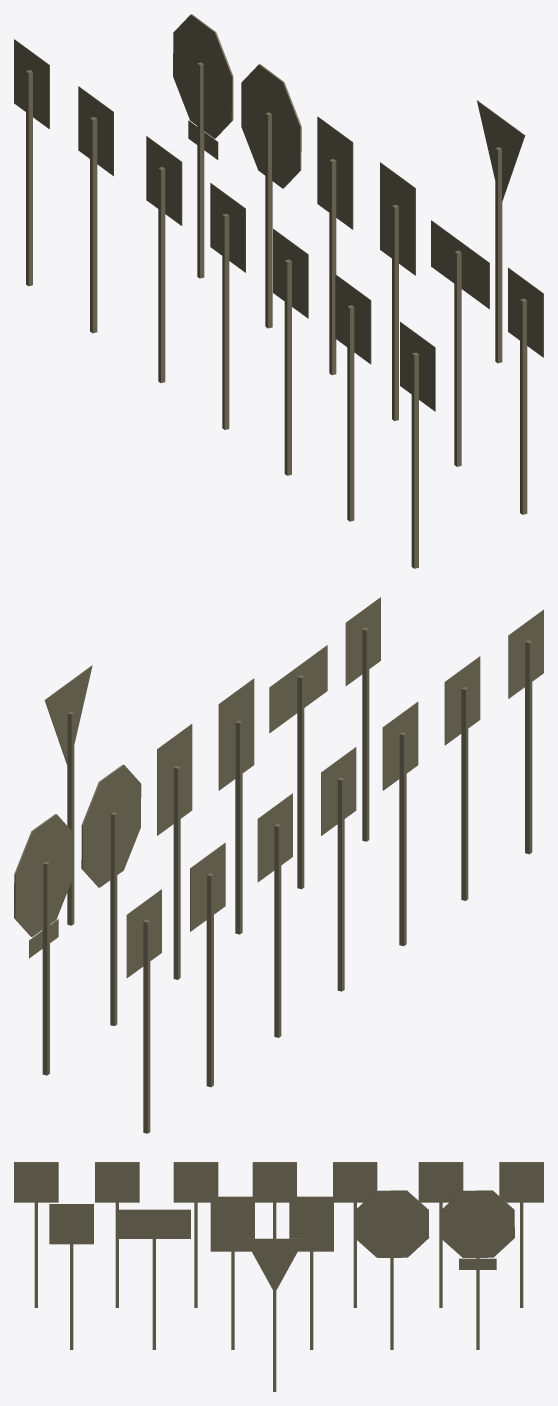
File: warnings.glb
3 views of the same model, one above another, from view 1: azimuth 30°, elevation 25°; view 2: azimuth 150°, elevation 25°; view 3: azimuth 270°, elevation 25° (orthographic). The views are drawn at different scales.
Visible parts, largest first — view 1: pCylinder1, pCylinder4, pCube76, pCube75, pCube74, pCube66, pCube71, pCube68, pCube72, pCube69, pCube67, pCube70 (+16 smaller); view 2: pCylinder4, pCylinder1, pCube75, pCube76, pCube74, pCube67, pCube66, pCube65, pCube71, pCube70, pCube68, pCube69 (+16 smaller); view 3: pCylinder1, pCylinder4, pCube75, pCube76, pCube74, pCube65, pCube66, pCube69, pCube67, pCube70, pCube68, pCube72 (+16 smaller).
Part boxes in pixels (<box>): pCylinder1: <box>173,14,233,138</box>; pCylinder4: <box>241,64,301,188</box>; pCube76: <box>317,116,353,229</box>; pCube75: <box>380,162,415,275</box>; pCube74: <box>431,220,489,309</box>; pCube66: <box>335,274,371,364</box>; pCube71: <box>146,136,182,225</box>; pCube68: <box>210,182,245,272</box>; pCube72: <box>78,86,113,176</box>; pCube69: <box>508,267,543,357</box>; pCube67: <box>273,228,308,318</box>; pCube70: <box>14,39,49,129</box>; pCylinder4: <box>81,764,141,887</box>; pCylinder1: <box>14,814,73,936</box>; pCube75: <box>218,678,254,790</box>; pCube76: <box>157,724,192,835</box>; pCube74: <box>269,645,327,733</box>; pCube67: <box>382,702,418,790</box>; pCube66: <box>444,656,480,745</box>; pCube65: <box>508,609,543,698</box>; pCube71: <box>257,793,292,882</box>; pCube70: <box>126,889,161,977</box>; pCube68: <box>321,747,356,835</box>; pCube69: <box>345,597,380,685</box>; pCylinder1: <box>440,1190,514,1257</box>; pCylinder4: <box>355,1190,429,1257</box>; pCube75: <box>210,1196,254,1251</box>; pCube76: <box>289,1196,333,1251</box>; pCube74: <box>117,1209,190,1238</box>; pCube65: <box>14,1162,58,1202</box>; pCube66: <box>95,1162,139,1202</box>; pCube69: <box>49,1204,93,1244</box>; pCube67: <box>173,1162,218,1202</box>; pCube70: <box>499,1162,543,1202</box>; pCube68: <box>252,1162,296,1202</box>; pCube72: <box>418,1162,463,1202</box>.
Size of the model in its own units: 20.37 by 17.75 by 53.48.
